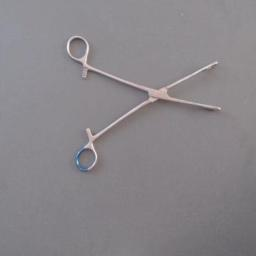Sponge Forceps: (62, 30, 226, 178)
